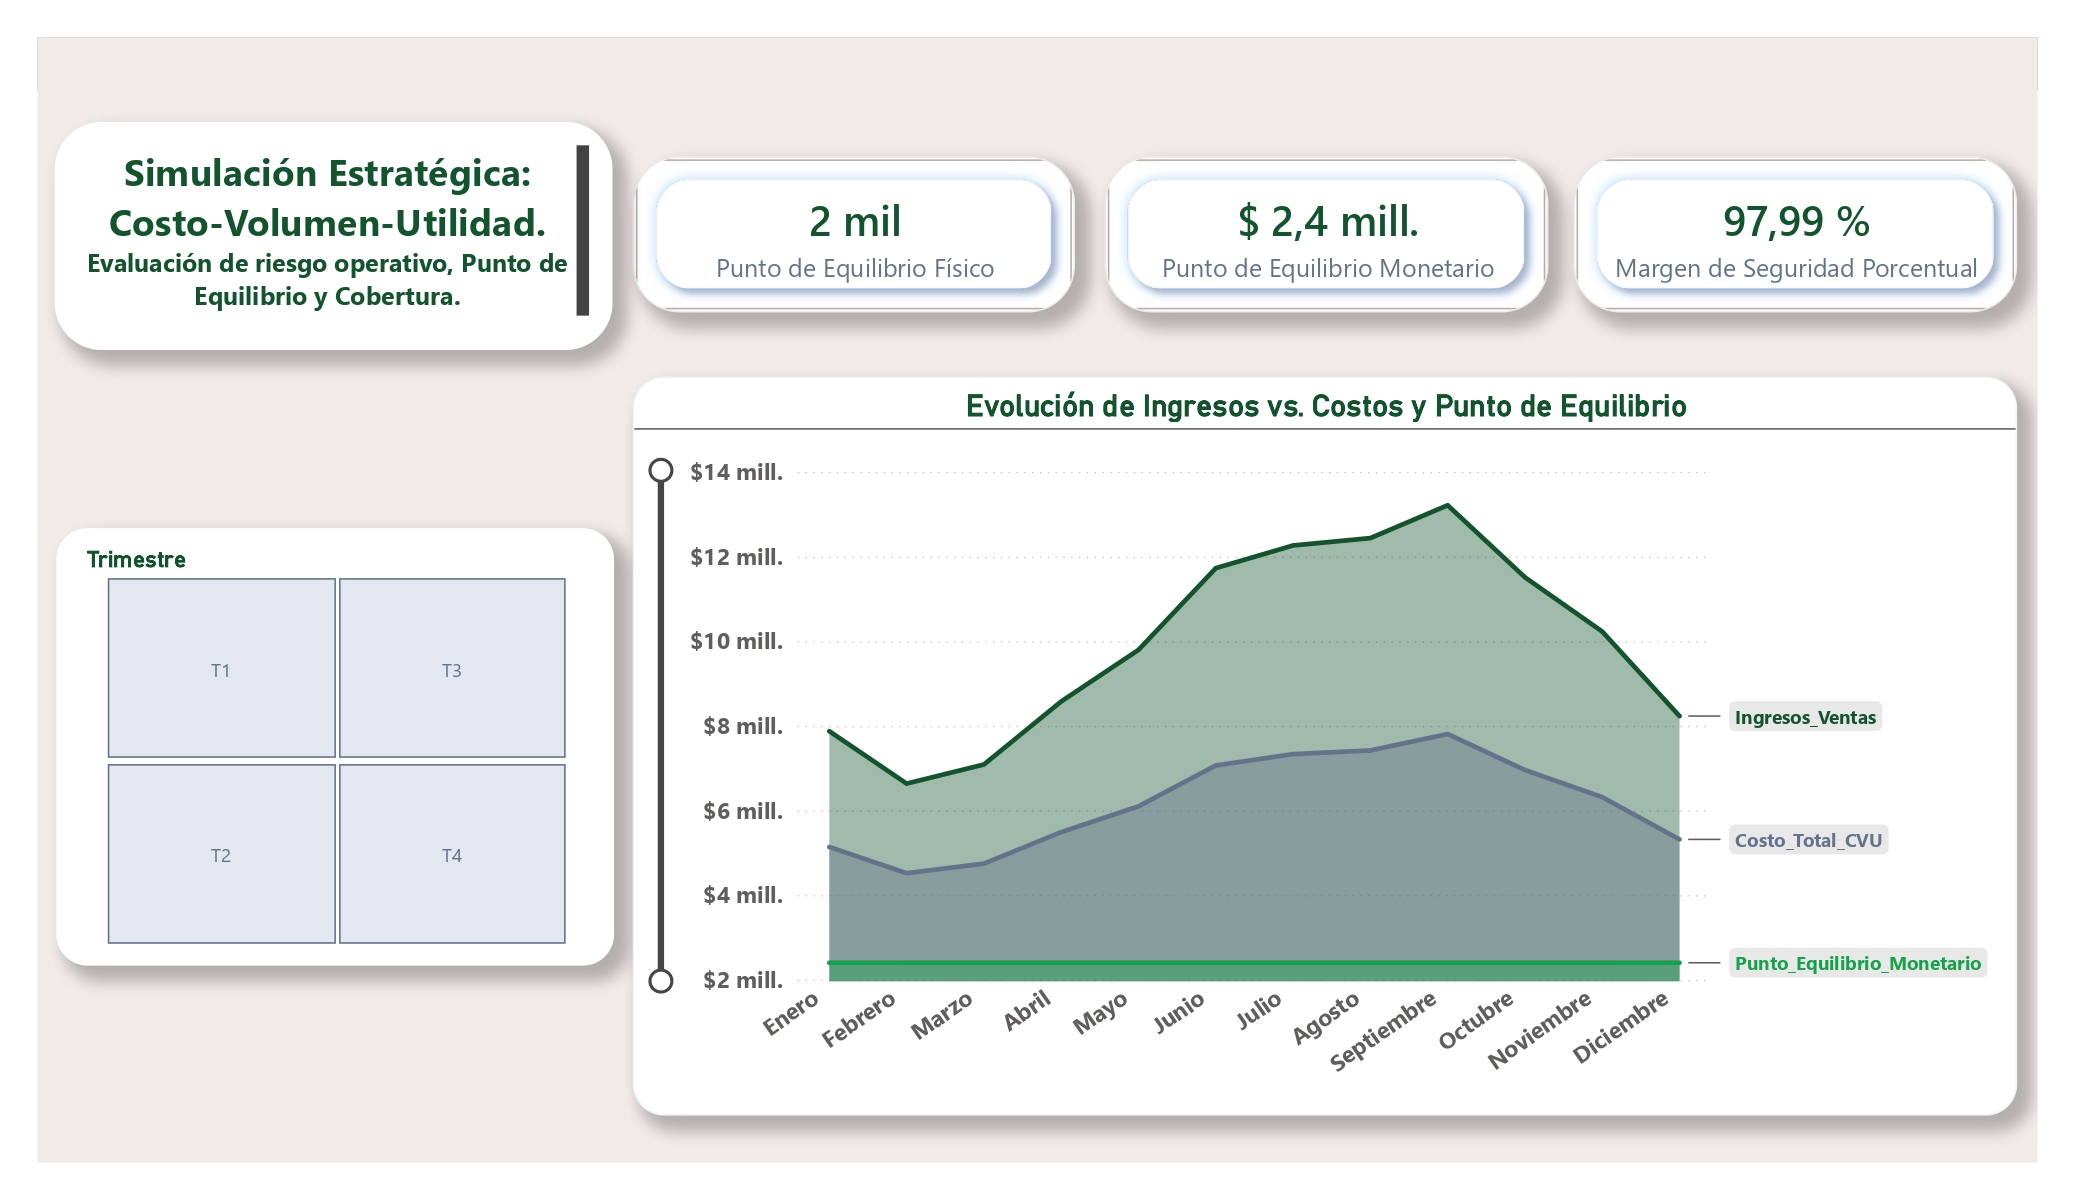

What the dashboard file says about the page in this screenshot:
{"tool":"powerbi","page":{"name":"Análisis CVU","canvas":[1280,720],"ordinal":1},"visuals":[{"type":"slicer","fields":{"Values":["public costos1_dim_tiempo.trimestre"]},"box":[11.6,313.5,357.4,280],"z":0},{"type":"lineChart","title":"Evolución de Ingresos vs. Costos y Punto de Equilibrio","fields":{"Category":["public costos1_dim_tiempo.nombre_mes"],"Y":["_Medidas_Costos1.Ingresos_Ventas","_Medidas_Costos1.Costo_Total_CVU","_Medidas_Costos1.Punto_Equilibrio_Monetario"]},"box":[380.6,216.8,886.5,473.5],"z":1000},{"type":"cardVisual","fields":{"Data":["_Medidas_Costos1.Punto_Equilibrio_Fisico"]},"box":[380.6,76.4,283.6,99.9],"z":2000},{"type":"cardVisual","fields":{"Data":["_Medidas_Costos1.Punto_Equilibrio_Monetario"]},"box":[683.3,76.4,283.6,99.9],"z":3000},{"type":"cardVisual","fields":{"Data":["_Medidas_Costos1.Margen_Seguridad_Porcentaje"]},"box":[983,76.4,283.6,99.9],"z":4000},{"type":"textbox","box":[11,54,357,146],"z":5000}]}

Visuals, with their boxes on the page's 1280x720 design canvas (x1, y1, x2, y2). These are canvas units, not pixel positions in the 2075x1200 screenshot, which may show the page scaled, cropped or inside an application window:
slicer - public costos1_dim_tiempo.trimestre: Rect(12, 314, 369, 594)
"Evolución de Ingresos vs. Costos y Punto de Equilibrio" lineChart: Rect(381, 217, 1267, 690)
cardVisual - _Medidas_Costos1.Punto_Equilibrio_Fisico: Rect(381, 76, 664, 176)
cardVisual - _Medidas_Costos1.Punto_Equilibrio_Monetario: Rect(683, 76, 967, 176)
cardVisual - _Medidas_Costos1.Margen_Seguridad_Porcentaje: Rect(983, 76, 1267, 176)
textbox: Rect(11, 54, 368, 200)
